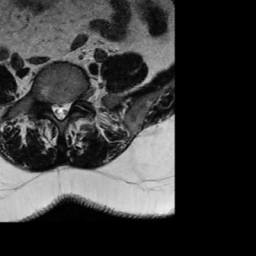CCS_normal: (58, 97, 63, 124)
LFS_severe_stenosis: (72, 92, 78, 111)
LLS_normal: (63, 97, 71, 119)
RFS_severe_stenosis: (42, 95, 50, 112)
RLS_normal: (51, 96, 58, 122)
